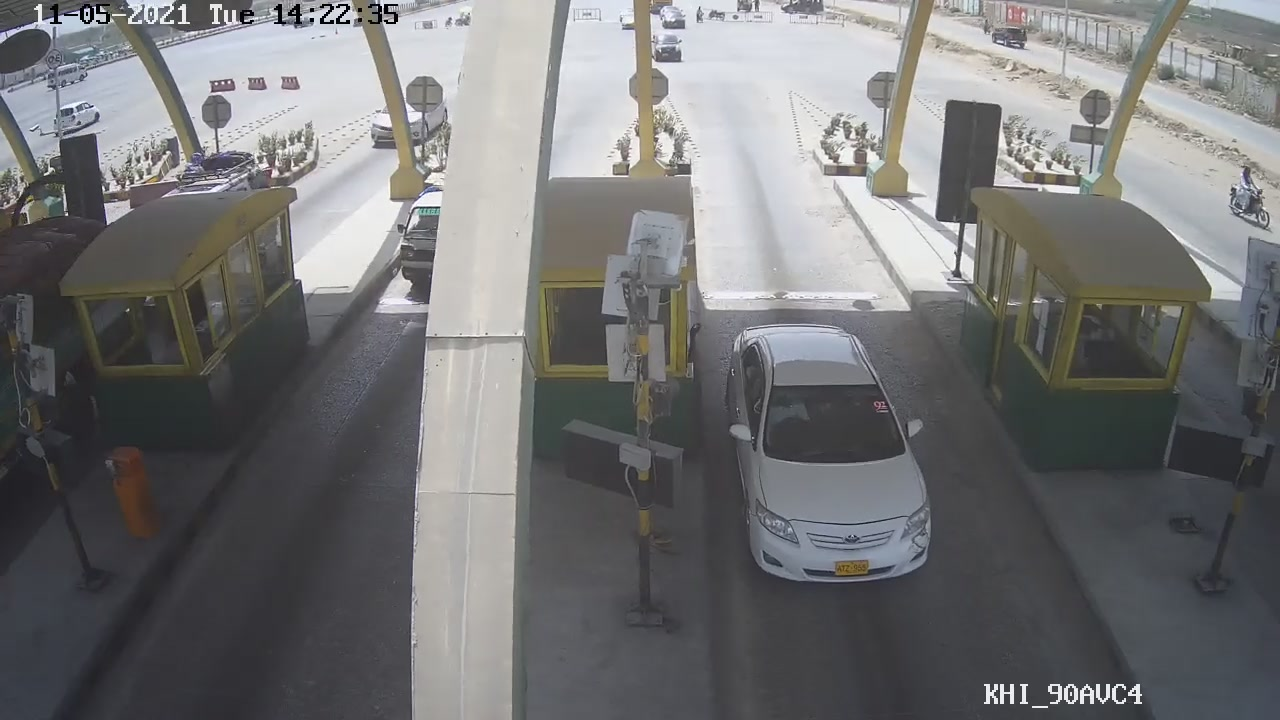F1: (715, 323, 932, 593)
